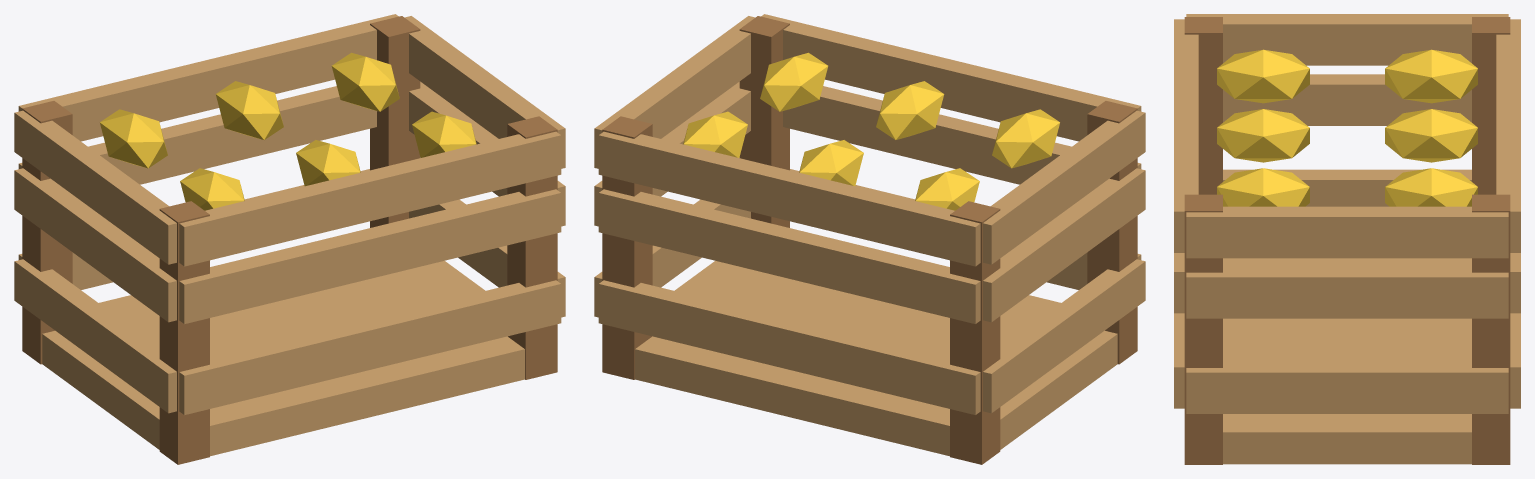
The model's file is TR_Crate_Mango.glb.
3 renders of one model, left to right at view 1: azimuth 30°, elevation 25°; view 2: azimuth 150°, elevation 25°; view 3: azimuth 270°, elevation 25°, orthographic. The views are drawn at different scales.
Visible parts, largest first — view 1: TR_Crate_Mango; view 2: TR_Crate_Mango; view 3: TR_Crate_Mango.
Boxes of the visible parts, x1=… form: TR_Crate_Mango: x1=14, y1=14, x2=565, y2=464; TR_Crate_Mango: x1=594, y1=14, x2=1145, y2=464; TR_Crate_Mango: x1=1174, y1=14, x2=1520, y2=464.
Size of the model in its own units: 0.685 by 0.4078 by 0.495.
